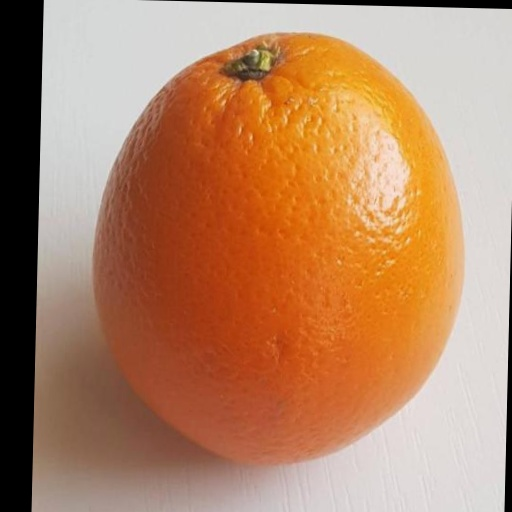fruit: (94, 34, 462, 463)
